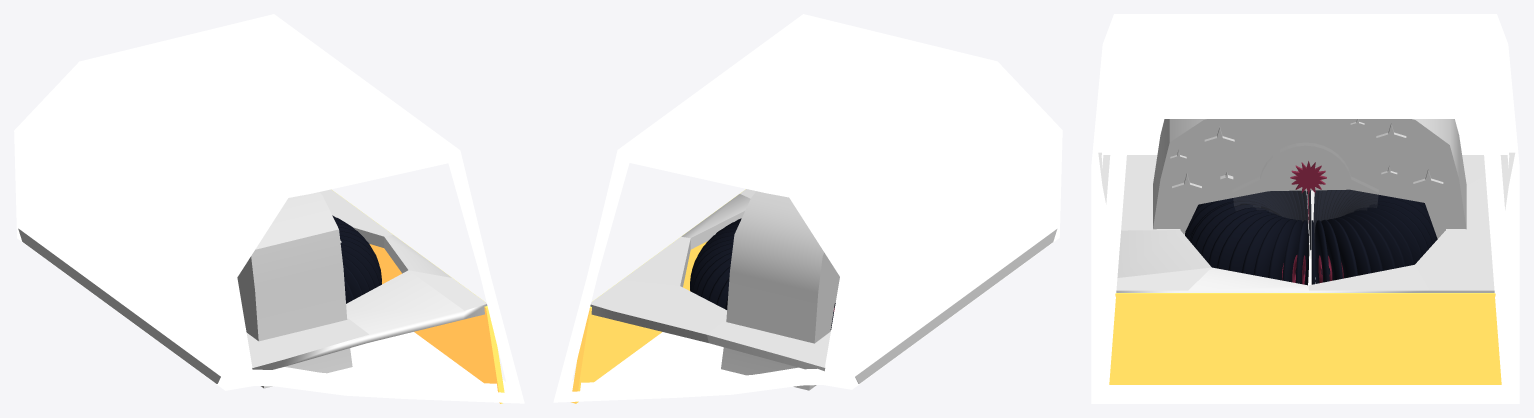
Rendered from jukebox.glb.
3 views of the same model, side by side, from view 1: azimuth 30°, elevation 25°; view 2: azimuth 150°, elevation 25°; view 3: azimuth 270°, elevation 25° (orthographic). The views are drawn at different scales.
Parts seen in each view (by area): view 1: Box.001, Cube.005, Plane, Cube.006, Vinyls stack.001; view 2: Box.001, Cube.005, Plane, Cube.006, Vinyls stack.001; view 3: Box.001, Cube.006, Plane, Vinyls stack.001, Cube.005, Circle.001, Circle.002.
Part boxes in pixels (x1,y1,x2,y2): Box.001: [14, 14, 524, 403]; Cube.005: [18, 189, 487, 383]; Plane: [237, 192, 352, 388]; Cube.006: [332, 190, 504, 403]; Vinyls stack.001: [332, 215, 381, 303]; Box.001: [553, 14, 1062, 402]; Cube.005: [590, 189, 1057, 383]; Plane: [721, 191, 839, 390]; Cube.006: [571, 189, 745, 403]; Vinyls stack.001: [690, 218, 835, 329]; Box.001: [1091, 14, 1519, 403]; Cube.006: [1109, 293, 1501, 384]; Plane: [1153, 119, 1466, 238]; Vinyls stack.001: [1185, 189, 1437, 285]; Cube.005: [1098, 152, 1515, 292]; Circle.001: [1233, 143, 1378, 257]; Circle.002: [1290, 161, 1326, 194].
Size of what is drawn, in the model's own units: 47.78 by 38.3 by 55.98.
